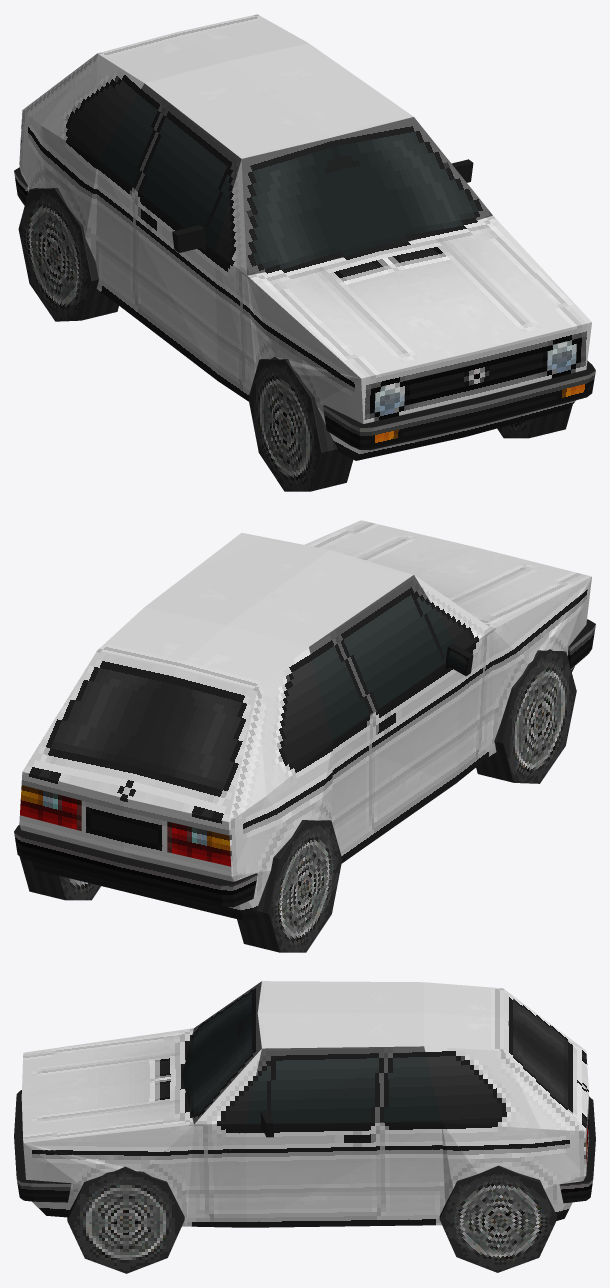
The model's file is hatchback.glb.
3 views of the same model, one above another, from view 1: azimuth 30°, elevation 25°; view 2: azimuth 150°, elevation 25°; view 3: azimuth 270°, elevation 25° (orthographic). The views are drawn at different scales.
Visible parts, largest first — view 1: body, wheel_fr, wheel_rr, wheel_fl; view 2: body, wheel_rr, wheel_fr, wheel_rl; view 3: body, wheel_fl, wheel_rl.
Boxes of the visible parts, bbox=[...] form: body: bbox=[14, 14, 595, 460]; wheel_fr: bbox=[248, 357, 353, 491]; wheel_rr: bbox=[18, 188, 118, 321]; wheel_fl: bbox=[497, 404, 572, 438]; body: bbox=[14, 520, 595, 920]; wheel_rr: bbox=[237, 820, 342, 952]; wheel_fr: bbox=[476, 650, 576, 783]; wheel_rl: bbox=[19, 856, 100, 900]; body: bbox=[14, 981, 595, 1227]; wheel_fl: bbox=[67, 1166, 184, 1273]; wheel_rl: bbox=[439, 1165, 556, 1272].
Size of what is drawn, in the model's own units: 1.22 by 1.03 by 2.58.
4 materials, 4 textured.
